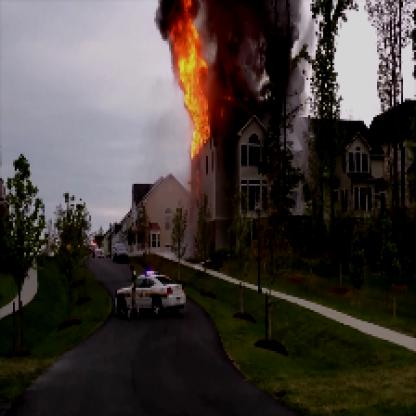Fire: (166, 2, 216, 158)
Smoke: (208, 2, 306, 137)
